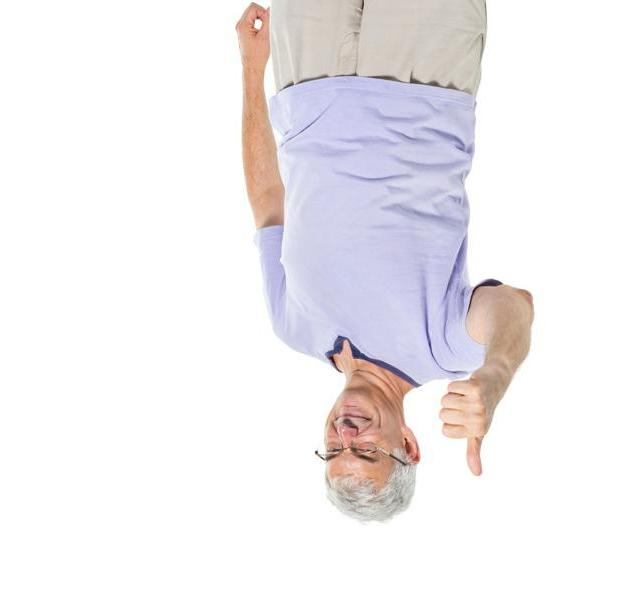thumbsdown: (439, 381, 488, 476)
